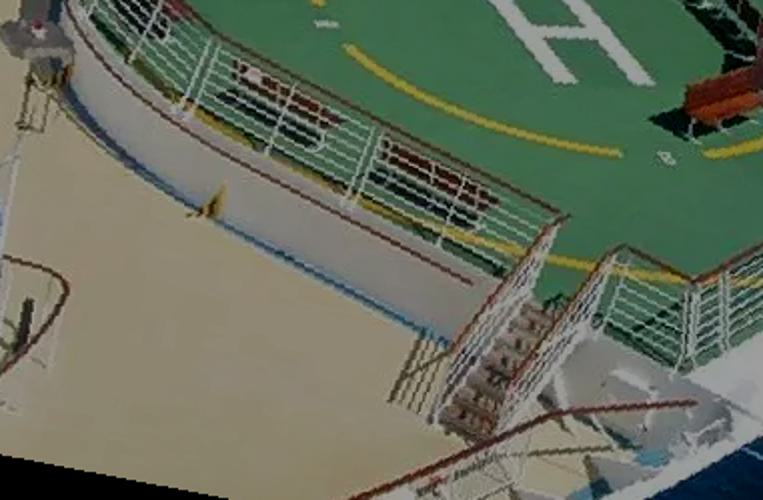Apron: (305, 1, 763, 163)
